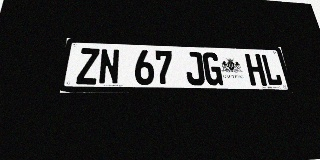6: (135, 50, 154, 85)
7: (154, 50, 174, 85)
G: (202, 52, 223, 85)
H: (245, 54, 267, 86)
J: (184, 51, 205, 85)
L: (260, 54, 283, 86)
N: (98, 49, 120, 85)
Z: (76, 48, 100, 85)
